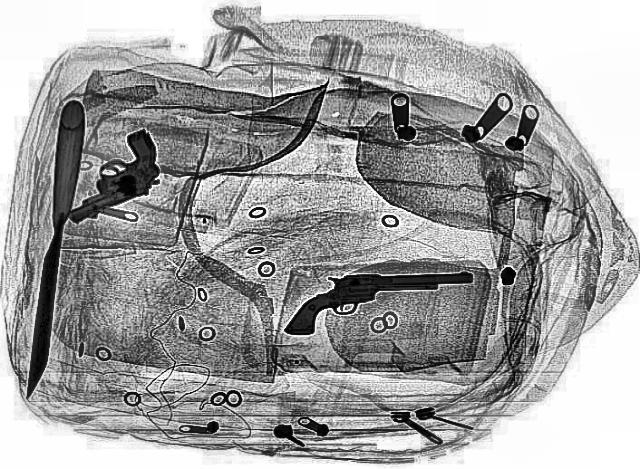Gun: (32, 128, 186, 222), (281, 272, 473, 334)
Knife: (15, 100, 89, 398)
